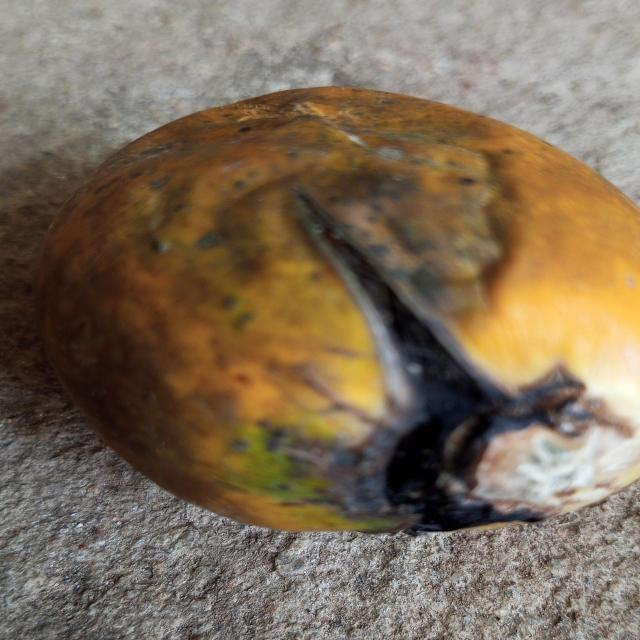damaged: (35, 88, 640, 535)
